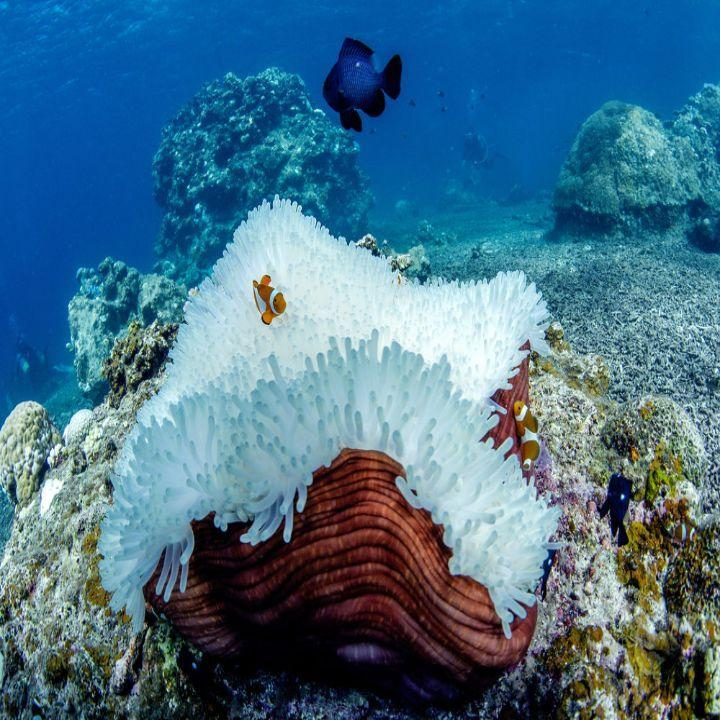Bleached disease: (93, 189, 568, 608)
